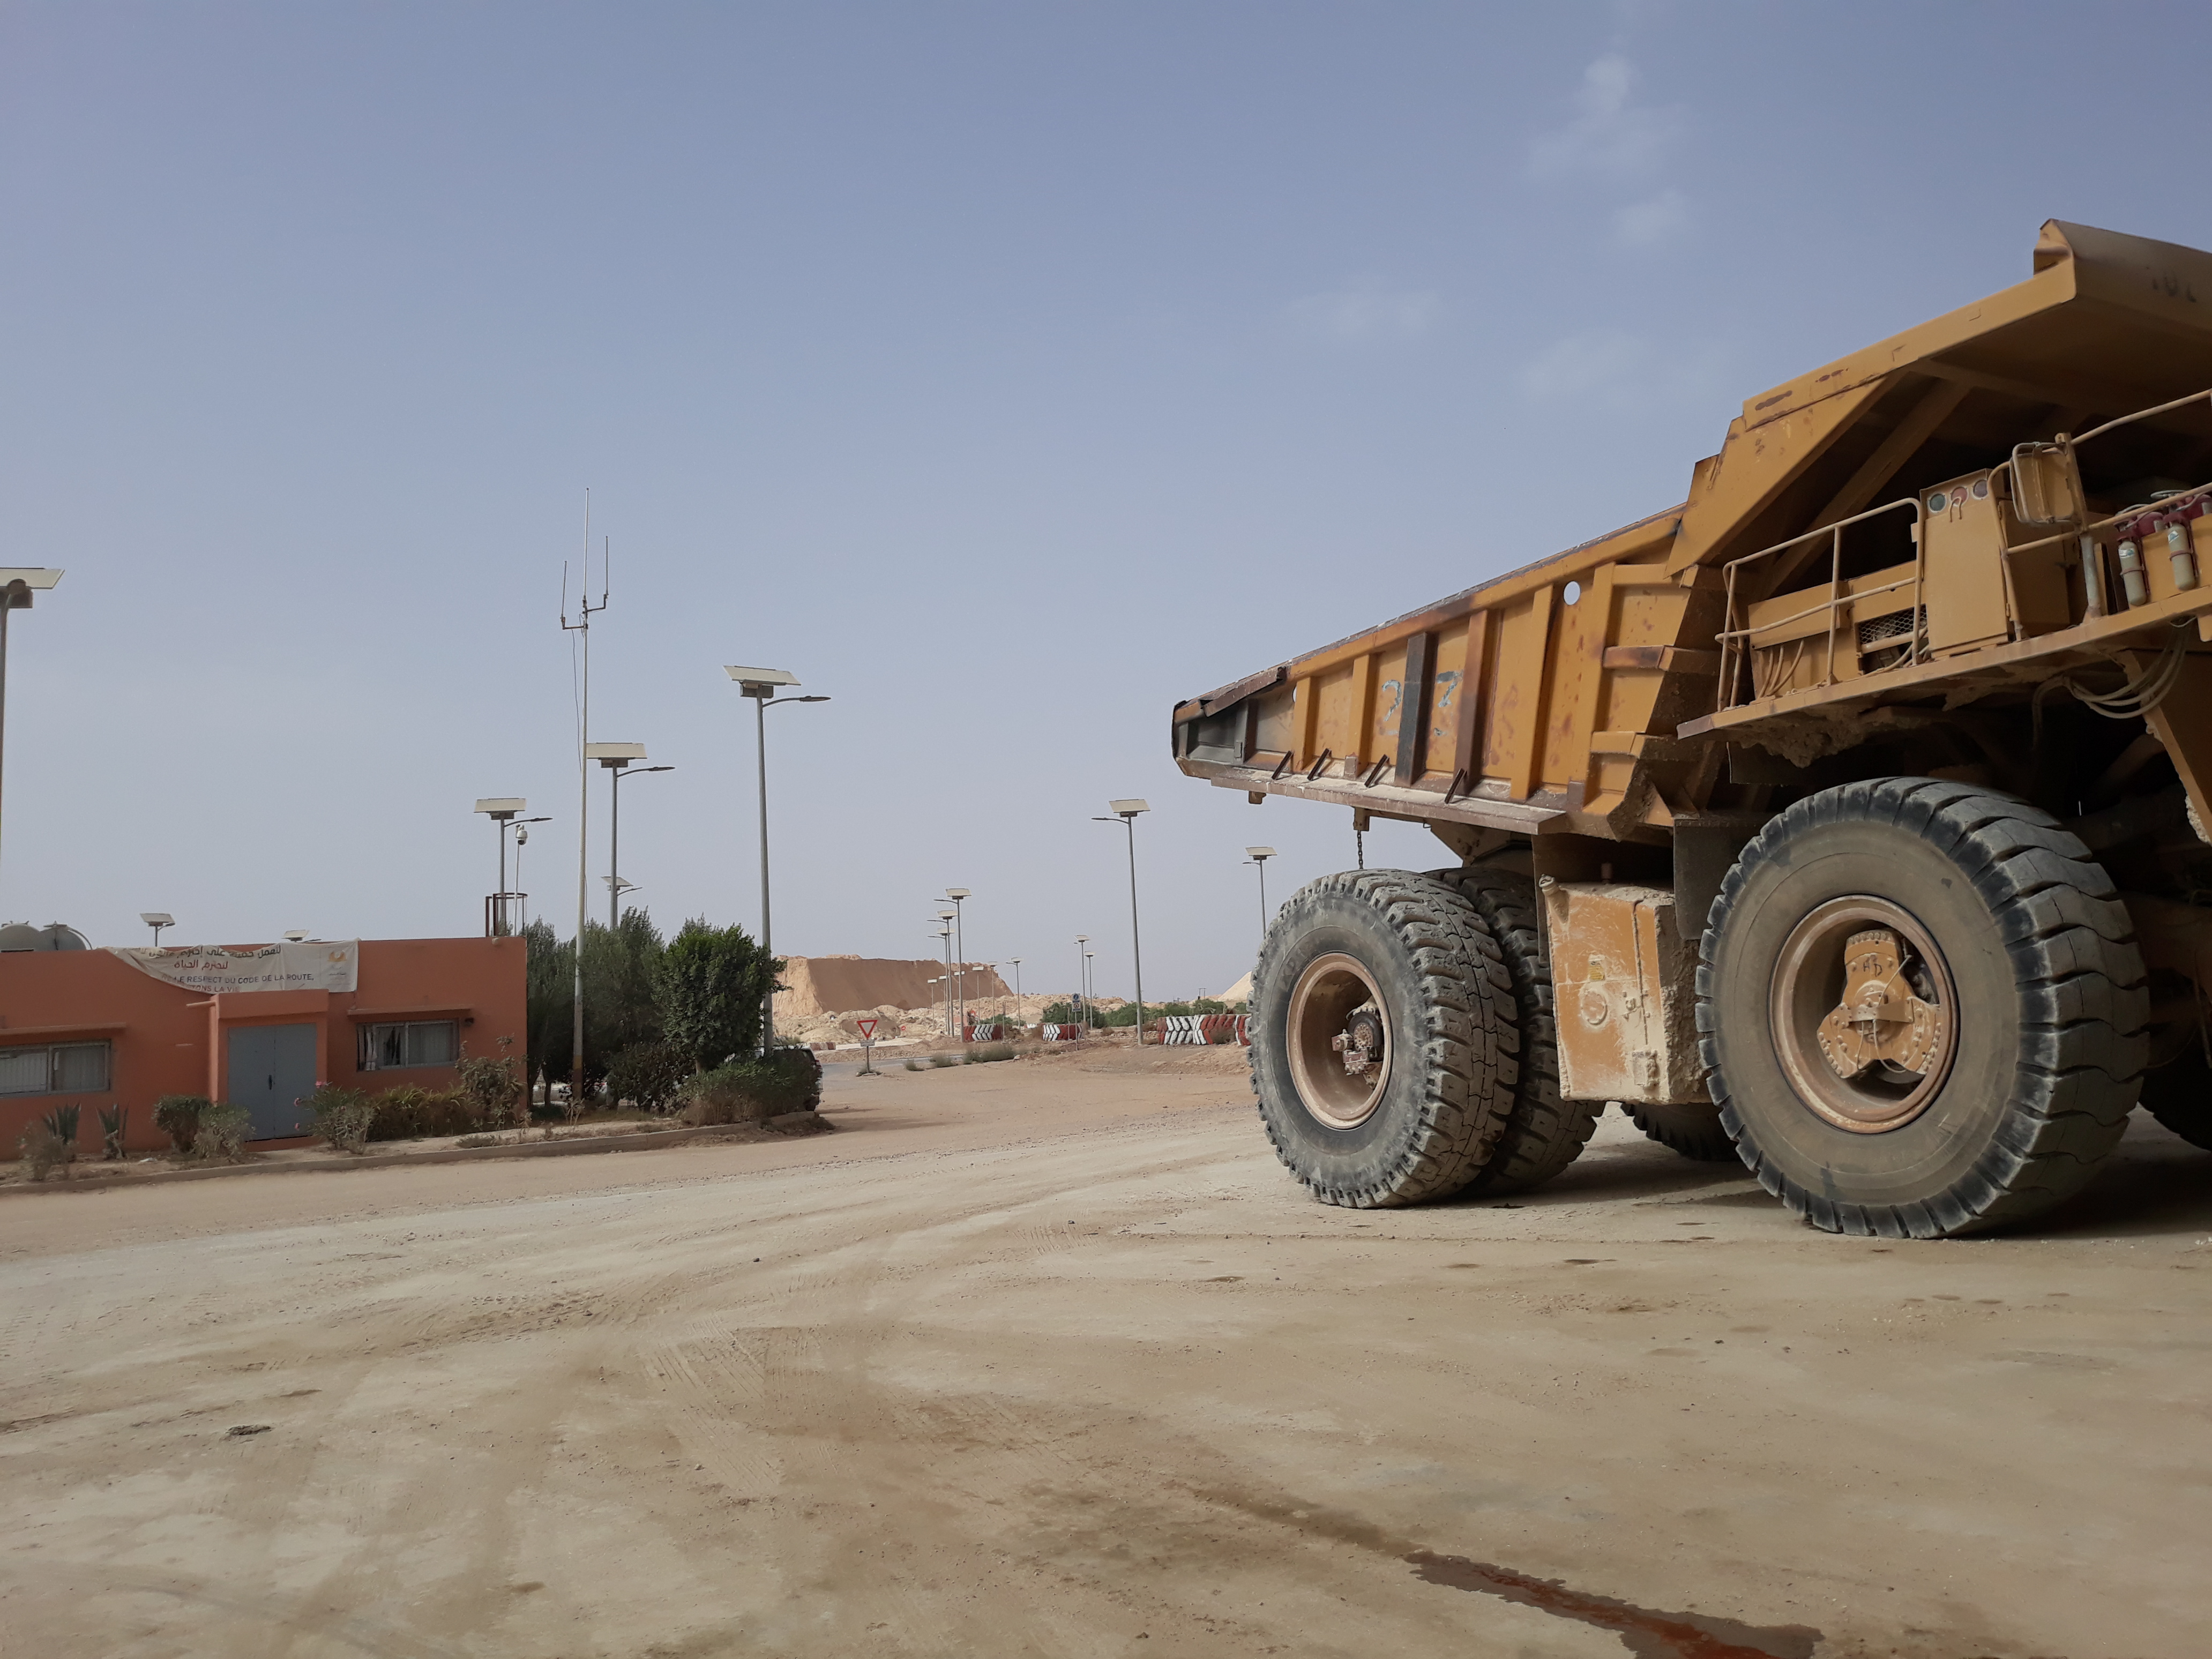camion: (1137, 195, 2212, 1305)
